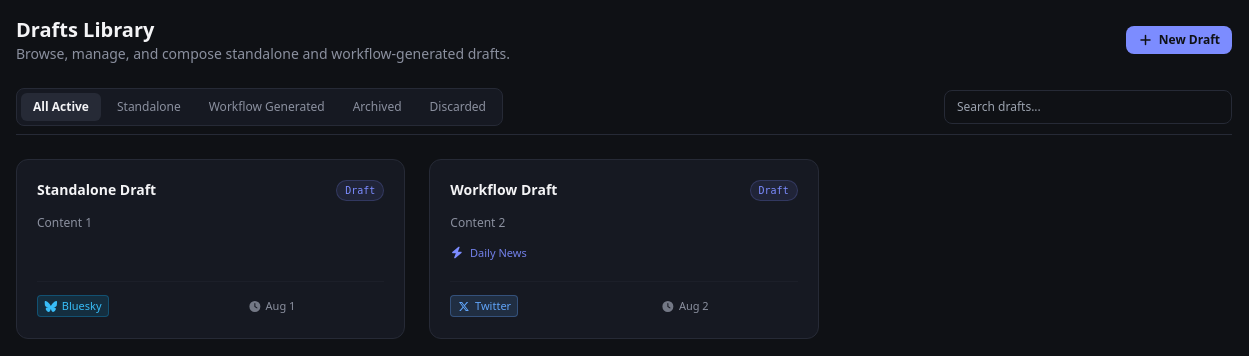
Scenario: DraftsPage › renders drafts library header and filters by tabs
Check: the heading "Drafts Library" is shown, box x1=16 y1=16 x2=154 y2=43
Check: the heading "Standalone Draft" is shown, box x1=37 y1=180 x2=156 y2=200
# Click Standalone tab
What coordinates should you click on to do the following:
click the button "Standalone"
I would click on:
 (149, 107)
Its box is x1=105 y1=93 x2=193 y2=121.
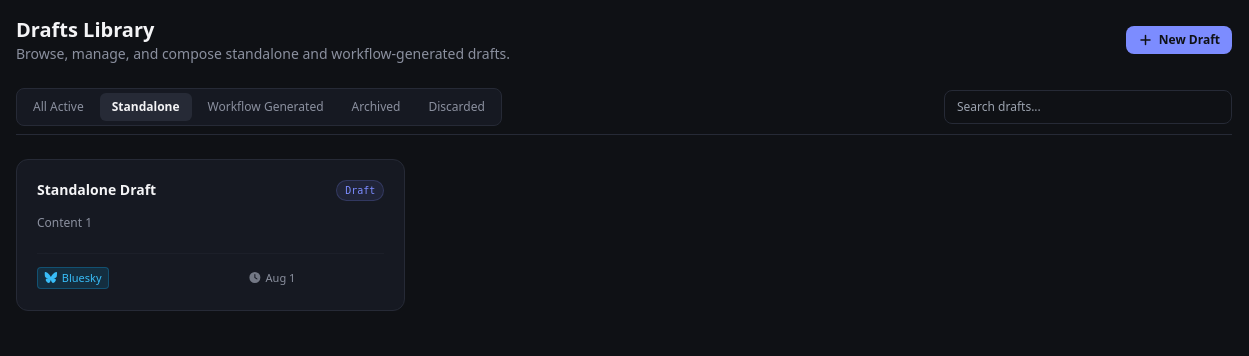
Check: the heading "Standalone Draft" is shown, box x1=37 y1=180 x2=156 y2=200
Check: the heading "Workflow Draft" is gone
# Click Workflow Generated tab
What coordinates should you click on to do the following:
click the button "Workflow Generated"
I would click on:
 (266, 107)
Its box is x1=196 y1=93 x2=336 y2=121.
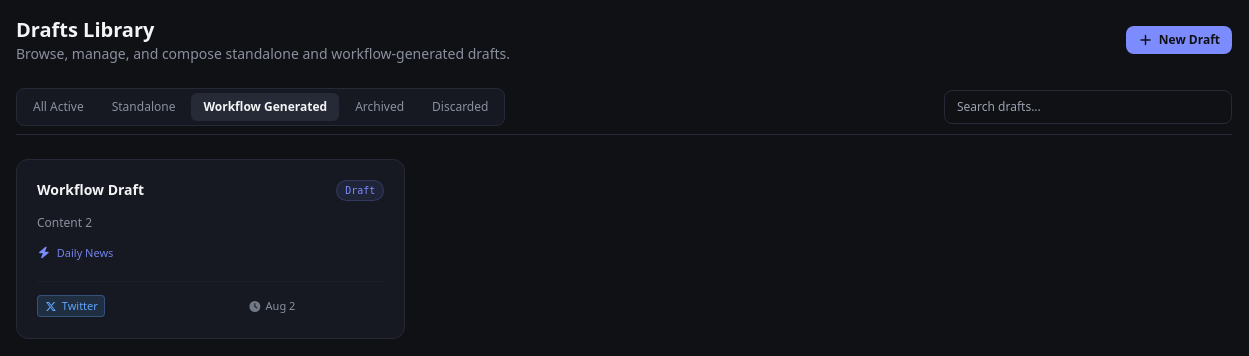
Check: the heading "Standalone Draft" is gone
Check: the heading "Workflow Draft" is shown, box x1=37 y1=180 x2=144 y2=200
